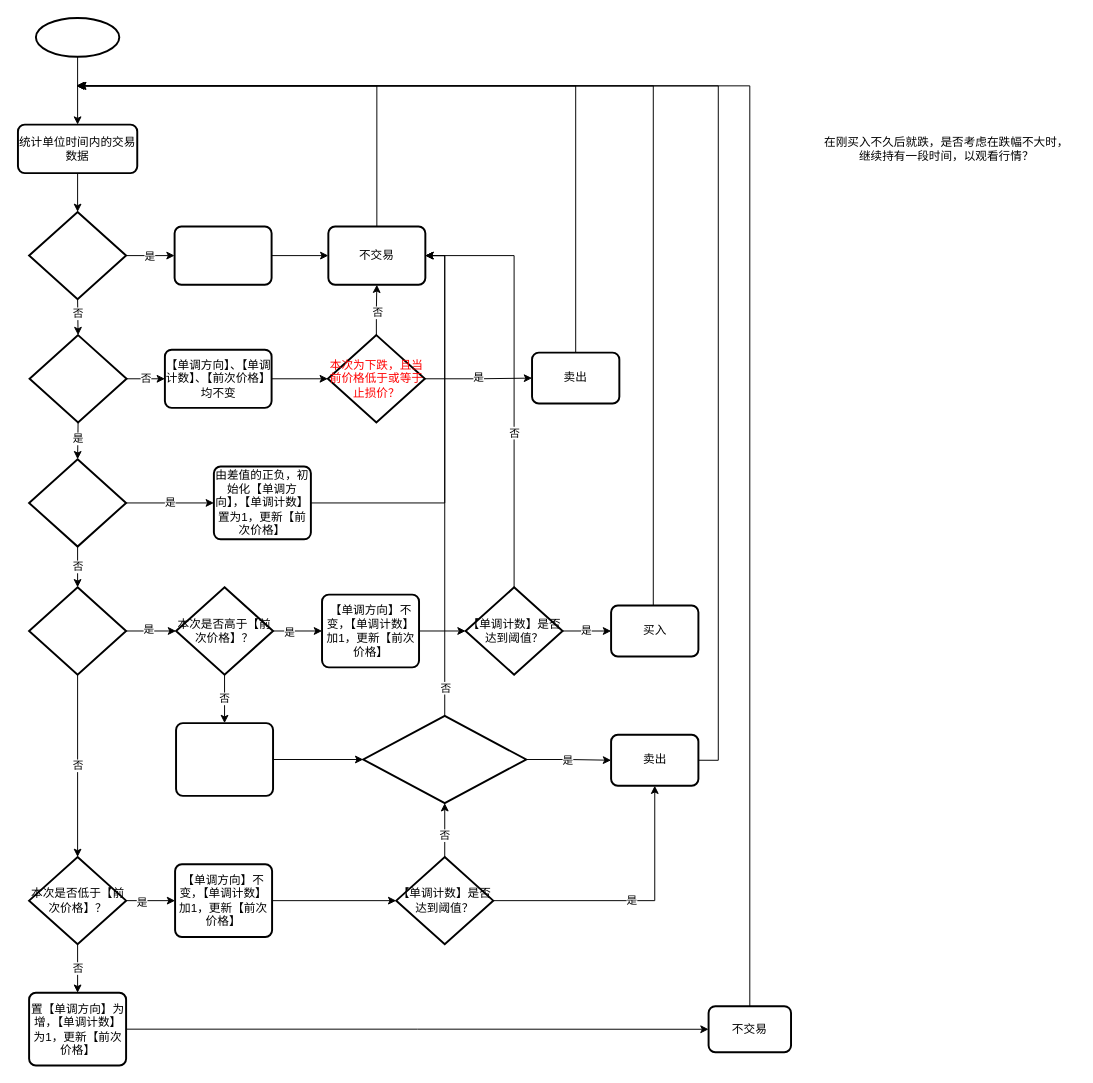
Some shapes in this 1093 by 1083 pixel diagram are drawn without their labels. Each missing label, with the box of its shape:
为起始时刻？或与上次统计时间间隔太长？: (28, 210, 127, 300)
单调方向是否为增？: (28, 586, 127, 675)
单调方向是否为空？: (28, 458, 127, 547)
开始: (34, 16, 120, 57)
本次与【前次价格】的差值是否显著？: (28, 334, 127, 423)
本次价格是否低于止损价（ ，或按本次跌幅计算，下次价格是否会到达止损价 ）？: (362, 714, 527, 804)
置【单调方向】为减，【单调计数】为1，更新【前次价格】: (175, 722, 274, 796)
置【单调方向】为空，【单调计数】为0，更新【前次价格】: (173, 225, 272, 285)
